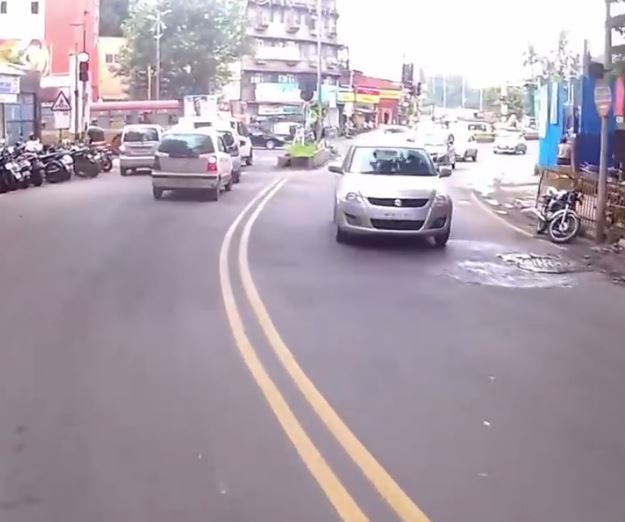car: (320, 139, 458, 252), (148, 125, 239, 206), (114, 119, 164, 181), (487, 126, 532, 160), (425, 130, 459, 169)
